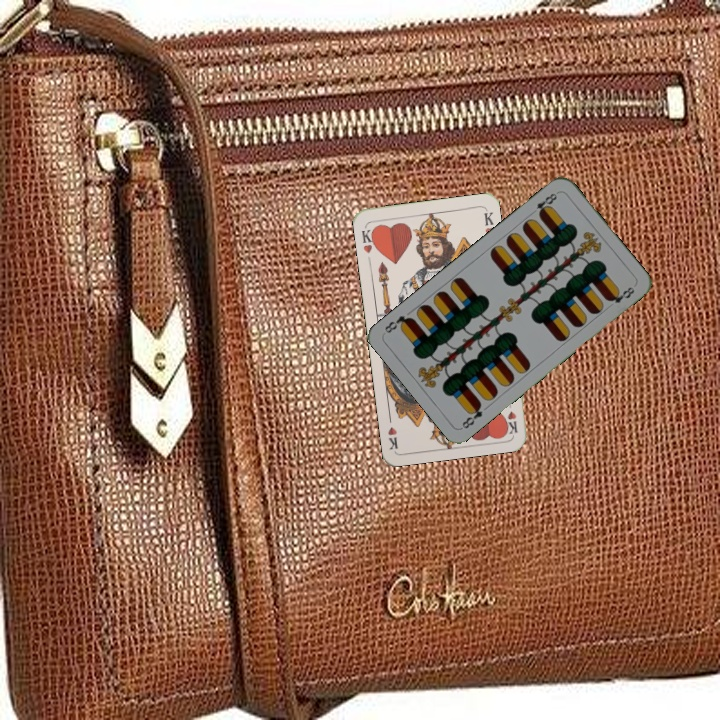E8: (532, 188, 561, 219), (458, 399, 485, 431)
HK: (503, 395, 520, 436), (358, 223, 379, 256)
